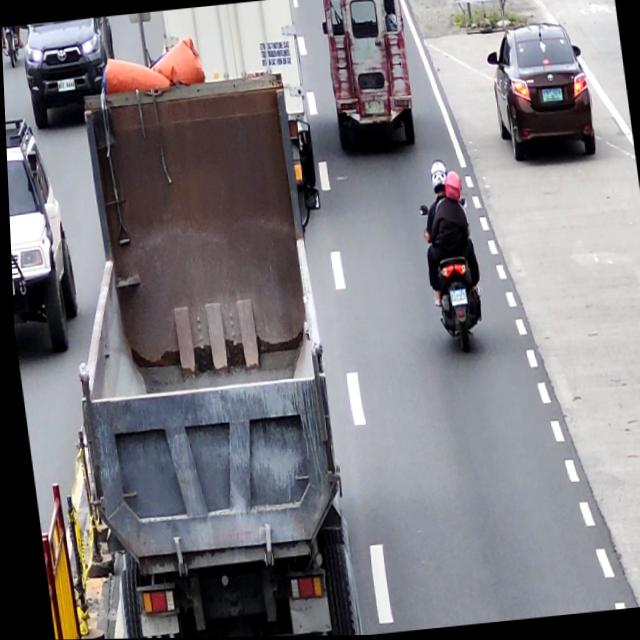Car: (481, 21, 598, 171)
Jeep: (318, 0, 416, 153)
License-Plate: (361, 100, 385, 117), (540, 88, 561, 106), (447, 292, 465, 307)
Motorcycle: (417, 197, 484, 354)
Truck: (38, 71, 353, 640), (160, 0, 317, 209)
